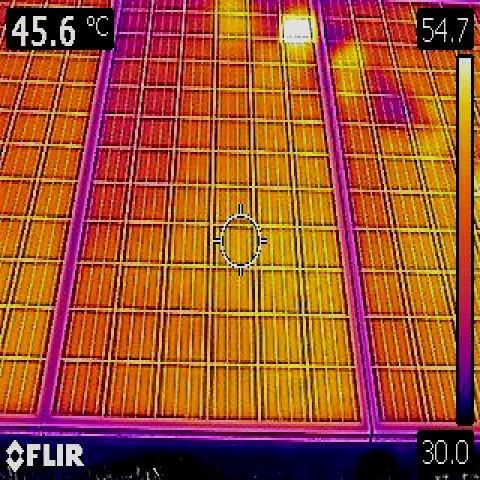fault: (280, 16, 316, 43)
